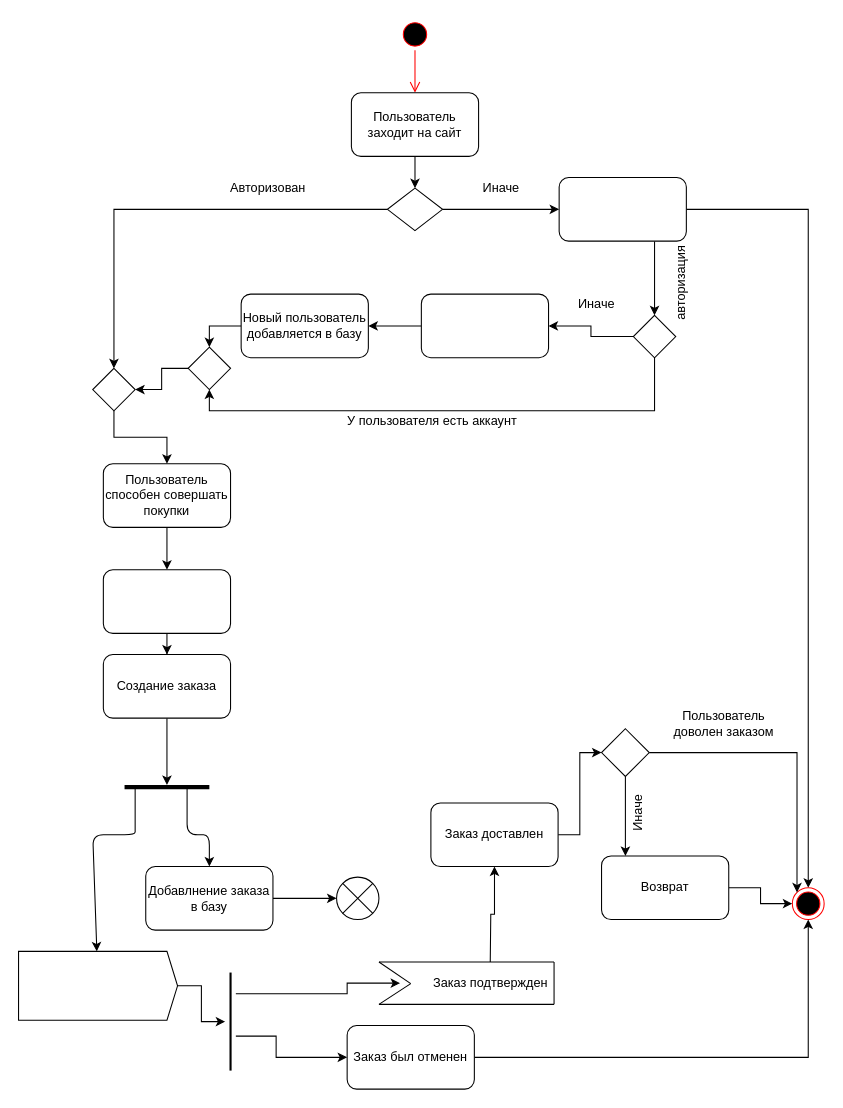
Some shapes in this 843 by 1108 pixel diagram are drawn without their labels. The shapes that lost their labels are listed below. From the top down, each one's centre as x and y in pixels, then its label:
At (622,208): "Доступен список товаров".
At (484,325): "Пользовоатель регистрируется".
At (166,601): "Добавление товара в корзину".
At (97,985): "Послать сигнал на подтверждение заказа".
